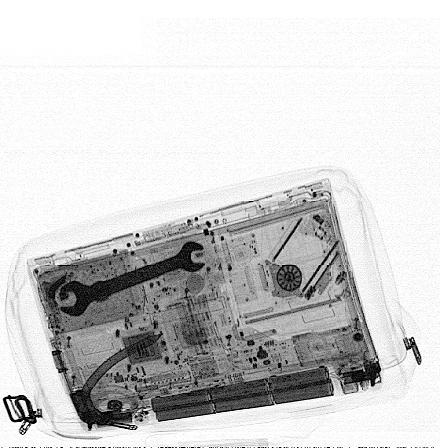Wrench: (56, 241, 207, 317)
